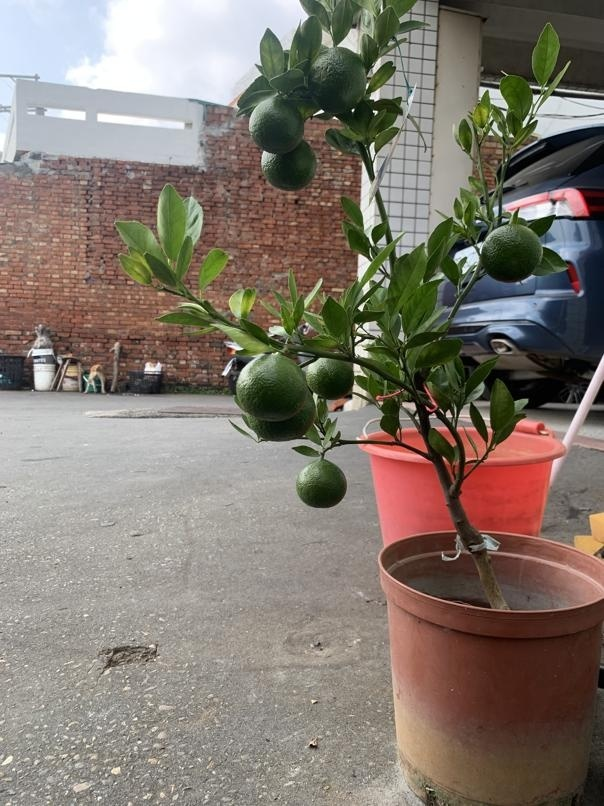Tangerine: (235, 348, 309, 423), (305, 44, 370, 110), (481, 226, 542, 284), (293, 452, 351, 511), (249, 91, 305, 152)
